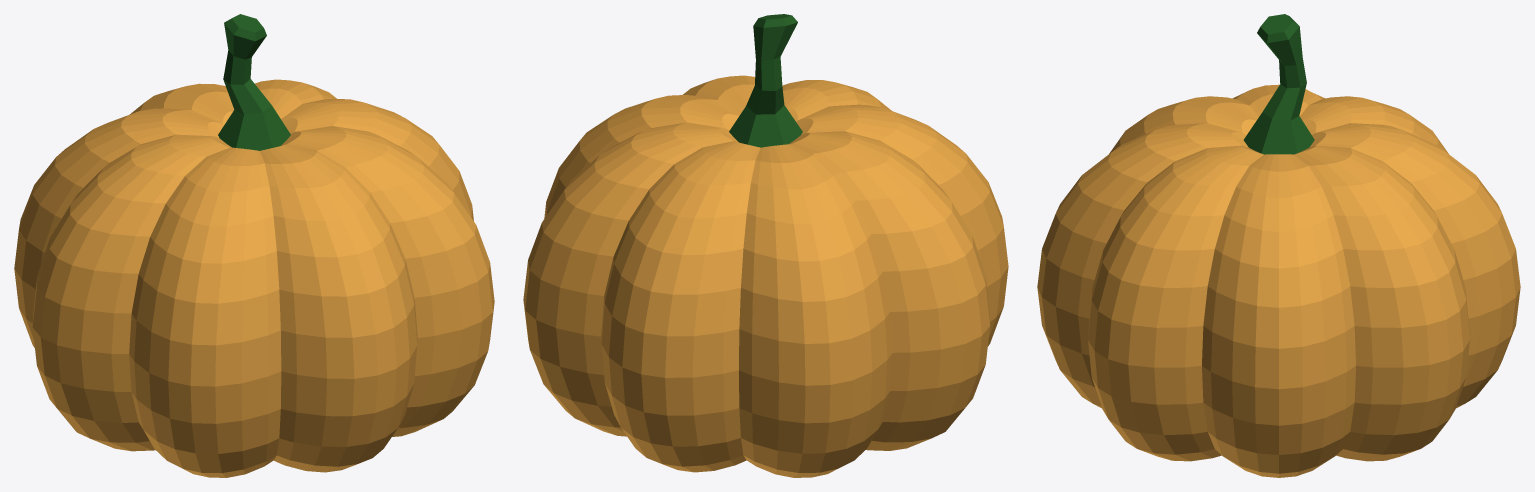
Rendered from dynia v1.fbx.
3 views of the same model, side by side, from view 1: azimuth 30°, elevation 25°; view 2: azimuth 150°, elevation 25°; view 3: azimuth 270°, elevation 25° (orthographic). The views are drawn at different scales.
Parts seen in each view (by area): view 1: Sphere, Cylinder; view 2: Sphere, Cylinder; view 3: Sphere, Cylinder.
Boxes of the visible parts, box(x1,y1,x2,y2) form: Sphere: box(14, 79, 494, 477); Cylinder: box(218, 14, 290, 150); Sphere: box(523, 75, 1008, 477); Cylinder: box(729, 14, 802, 147); Sphere: box(1037, 84, 1520, 477); Cylinder: box(1243, 14, 1314, 154).
Bounding box in the file's own units: 200 × 178 × 200.
